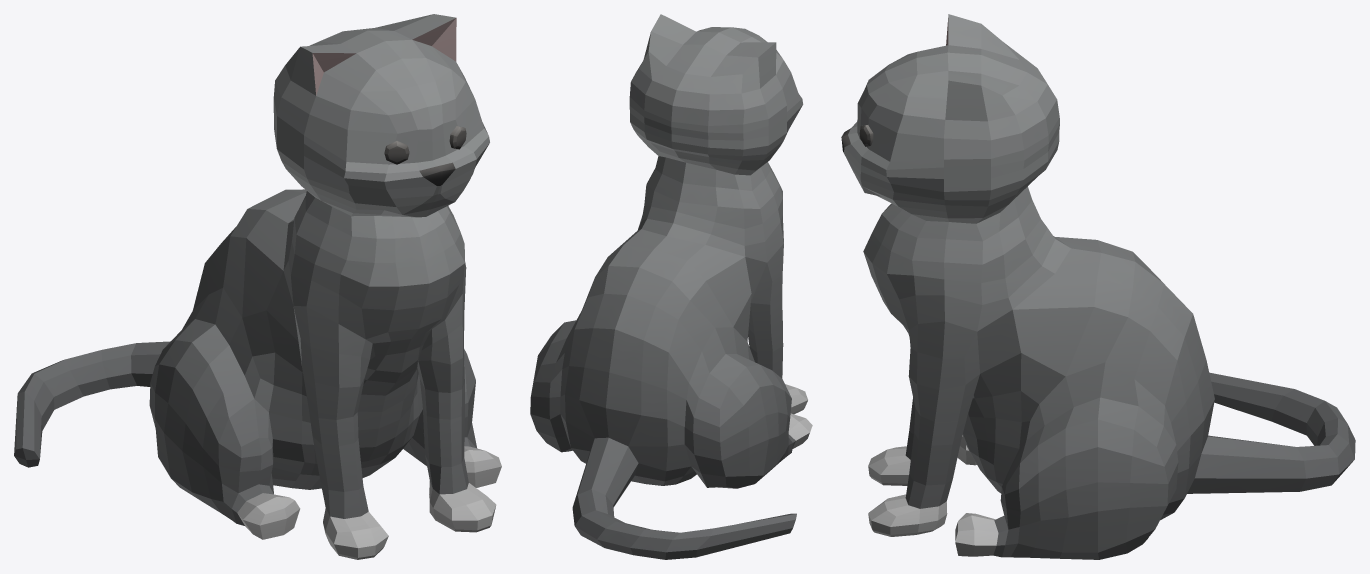
The model's file is CAT.fbx.
The picture shows the model from 3 angles, left to right: view 1: azimuth 30°, elevation 25°; view 2: azimuth 150°, elevation 25°; view 3: azimuth 270°, elevation 25°; orthographic projection. The views are drawn at different scales.
Visible parts, largest first — view 1: pCube183; view 2: pCube183; view 3: pCube183.
Boxes of the visible parts, <box> form: pCube183: <box>14,14,501,559</box>; pCube183: <box>530,14,812,559</box>; pCube183: <box>841,14,1355,559</box>.
Bounding box in the file's own units: 31.36 × 38.67 × 39.39.
